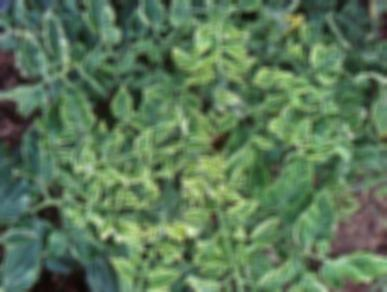Tomato mold leaf: (0, 122, 36, 220), (264, 156, 319, 212), (318, 249, 387, 292), (295, 183, 340, 245), (75, 0, 126, 47), (0, 81, 53, 122), (136, 91, 177, 143), (11, 27, 52, 79), (44, 13, 75, 77), (59, 85, 97, 132), (310, 43, 351, 84), (258, 252, 302, 287), (106, 83, 138, 122), (134, 0, 168, 34), (297, 268, 335, 292), (172, 47, 205, 72), (228, 197, 261, 221), (369, 100, 387, 142), (212, 110, 240, 134), (293, 115, 314, 146), (248, 68, 277, 90)
